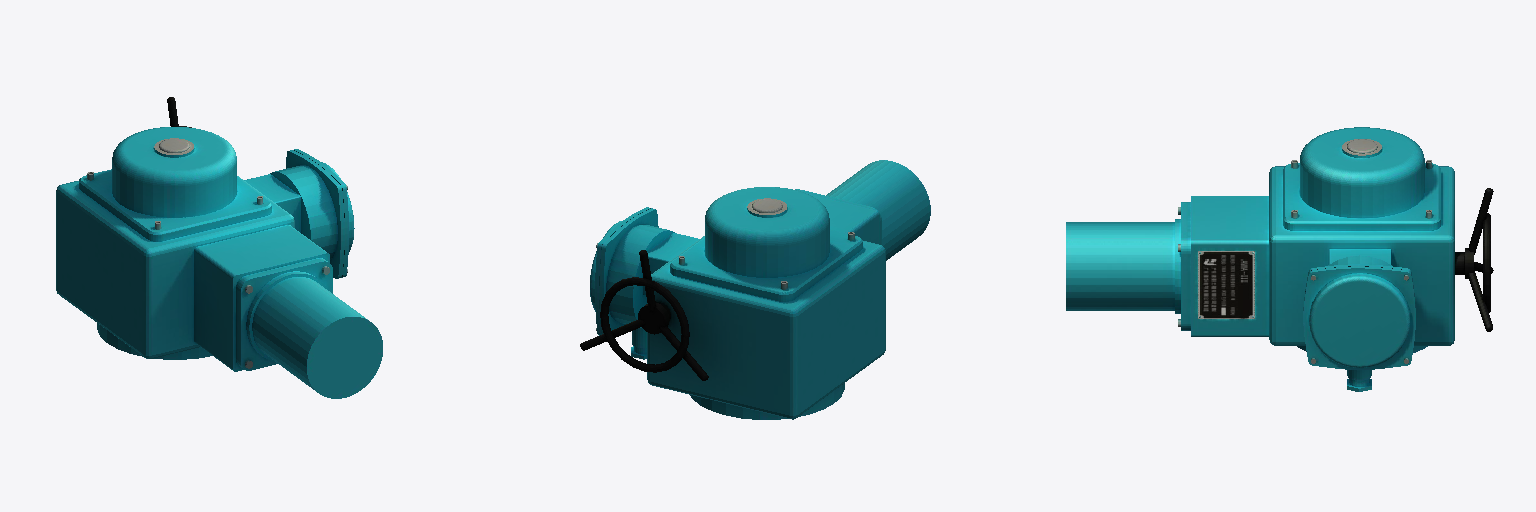
3 views of the same model, side by side, from view 1: azimuth 30°, elevation 25°; view 2: azimuth 150°, elevation 25°; view 3: azimuth 270°, elevation 25° (orthographic).
Parts seen in each view (by area): view 1: ChamferCyl25; view 2: ChamferCyl25; view 3: ChamferCyl25.
Boxes of the visible parts, box(x1,y1,x2,y2) form: ChamferCyl25: box(56, 97, 382, 398); ChamferCyl25: box(580, 160, 930, 419); ChamferCyl25: box(1066, 127, 1493, 391).
Size of the model in its own units: 30.39 by 23.09 by 49.03.
1 materials, 1 textured.